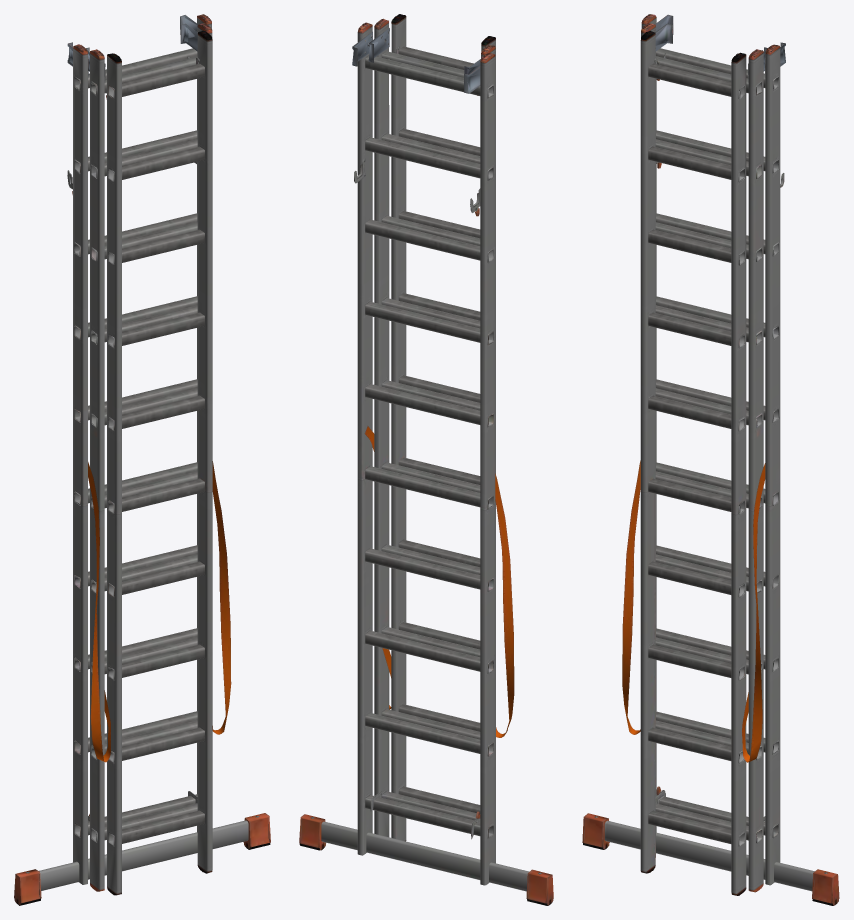
File: ladder_sectioned_01.glb
The picture shows the model from 3 angles, left to right: view 1: azimuth 30°, elevation 25°; view 2: azimuth 150°, elevation 25°; view 3: azimuth 330°, elevation 25°; orthographic projection.
Parts seen in each view (by area): view 1: ladder_section_01; view 2: ladder_section_01; view 3: ladder_section_01.
Part boxes in pixels (bbox=[...]): ladder_section_01: bbox=[14, 14, 270, 905]; ladder_section_01: bbox=[299, 14, 553, 905]; ladder_section_01: bbox=[582, 14, 839, 905].
Size of the model in its own units: 0.6616 by 2.13 by 0.1777.
1 material, 1 textured.
